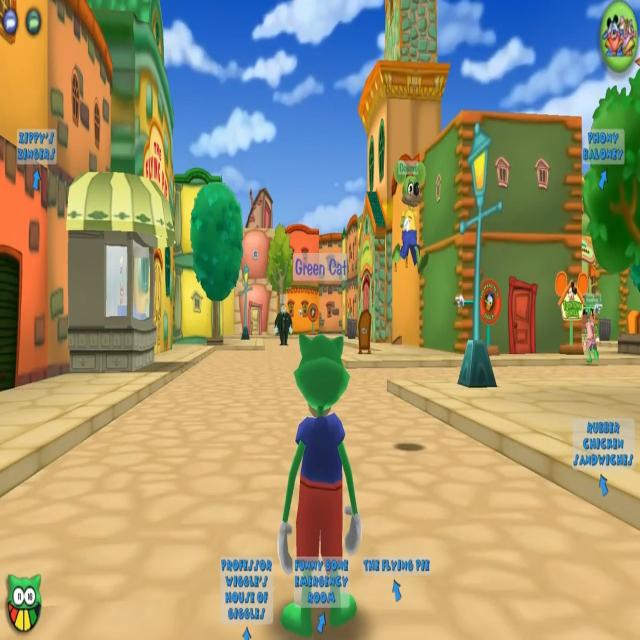tightwad: (273, 295, 294, 345)
